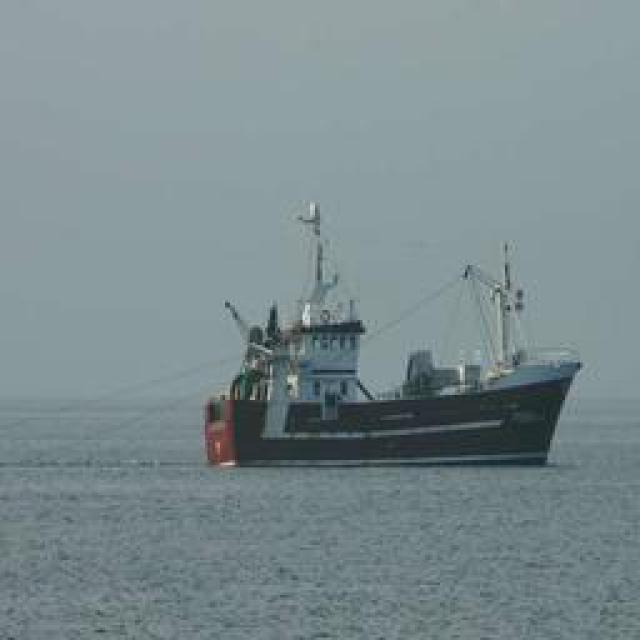Ship: (199, 200, 584, 468)
